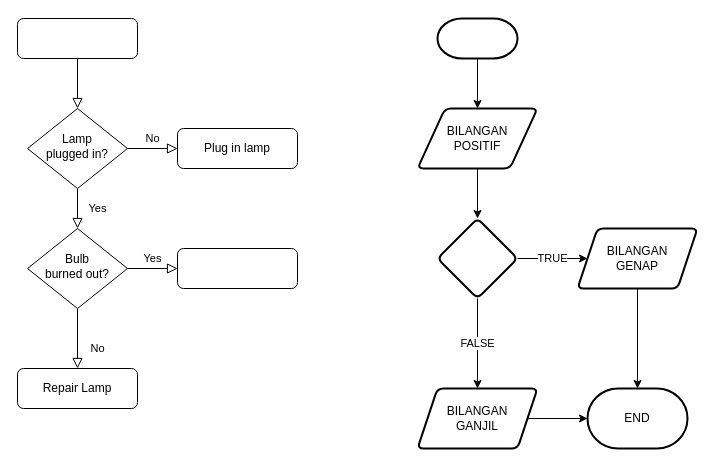
The diagram is 716 pixels wide and 466 high, and some of its shapes have lost their labels. The shapes that lost their labels are listed below. From the top down, each one's centre as x and y in pixels, then its label:
the point at 77,38: BILANGAN
the point at 477,38: START
the point at 237,268: Replace Bulb
the point at 477,258: BIL%2
